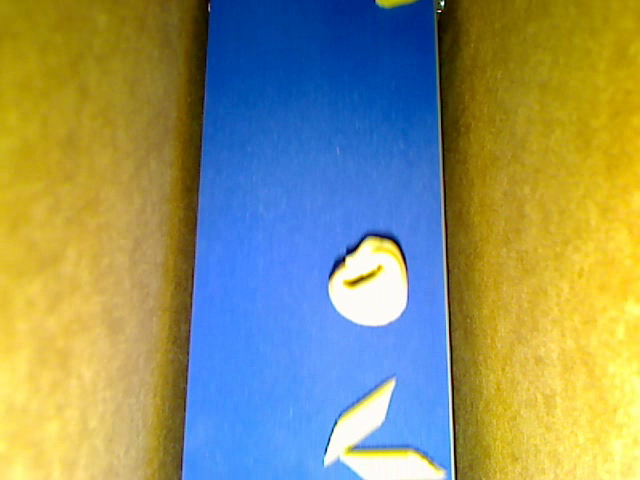penne: (322, 376, 396, 466), (339, 449, 447, 479)
tortellini: (327, 234, 408, 327)
